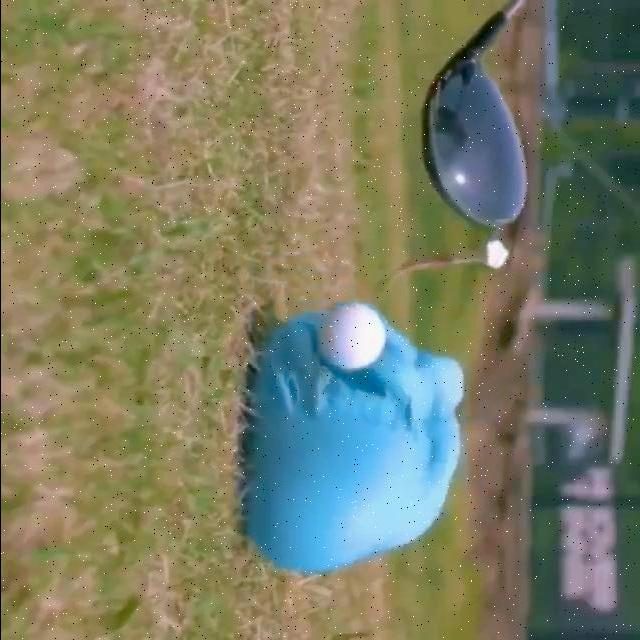golf ball: (323, 300, 384, 367)
golf club-handle: (420, 0, 543, 229)
golf club-head: (417, 73, 523, 223)
